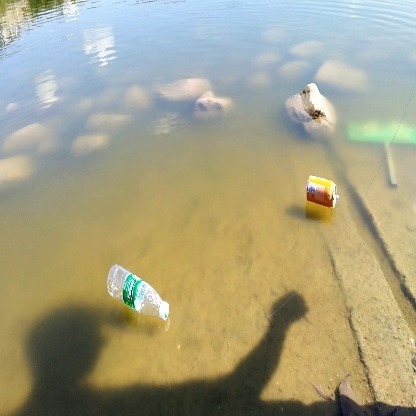bottle: (101, 258, 172, 327), (303, 168, 342, 211)
